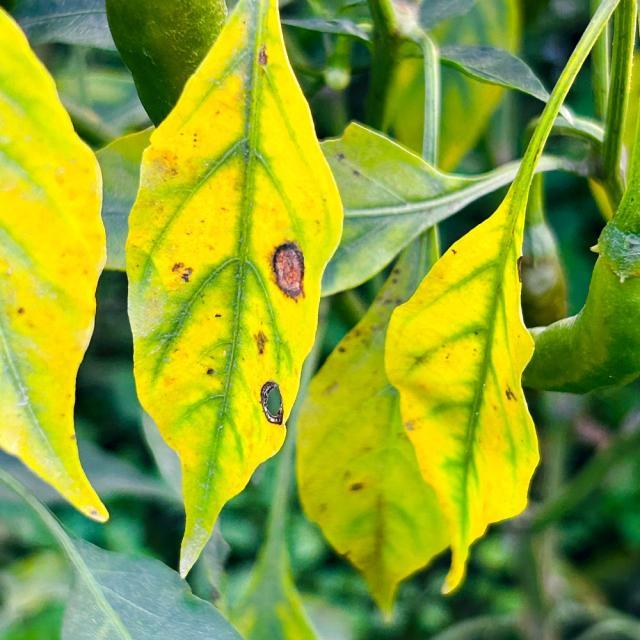Bercak Daun Serkospora: (122, 0, 346, 579)
Virus Kuning: (380, 195, 542, 603)
